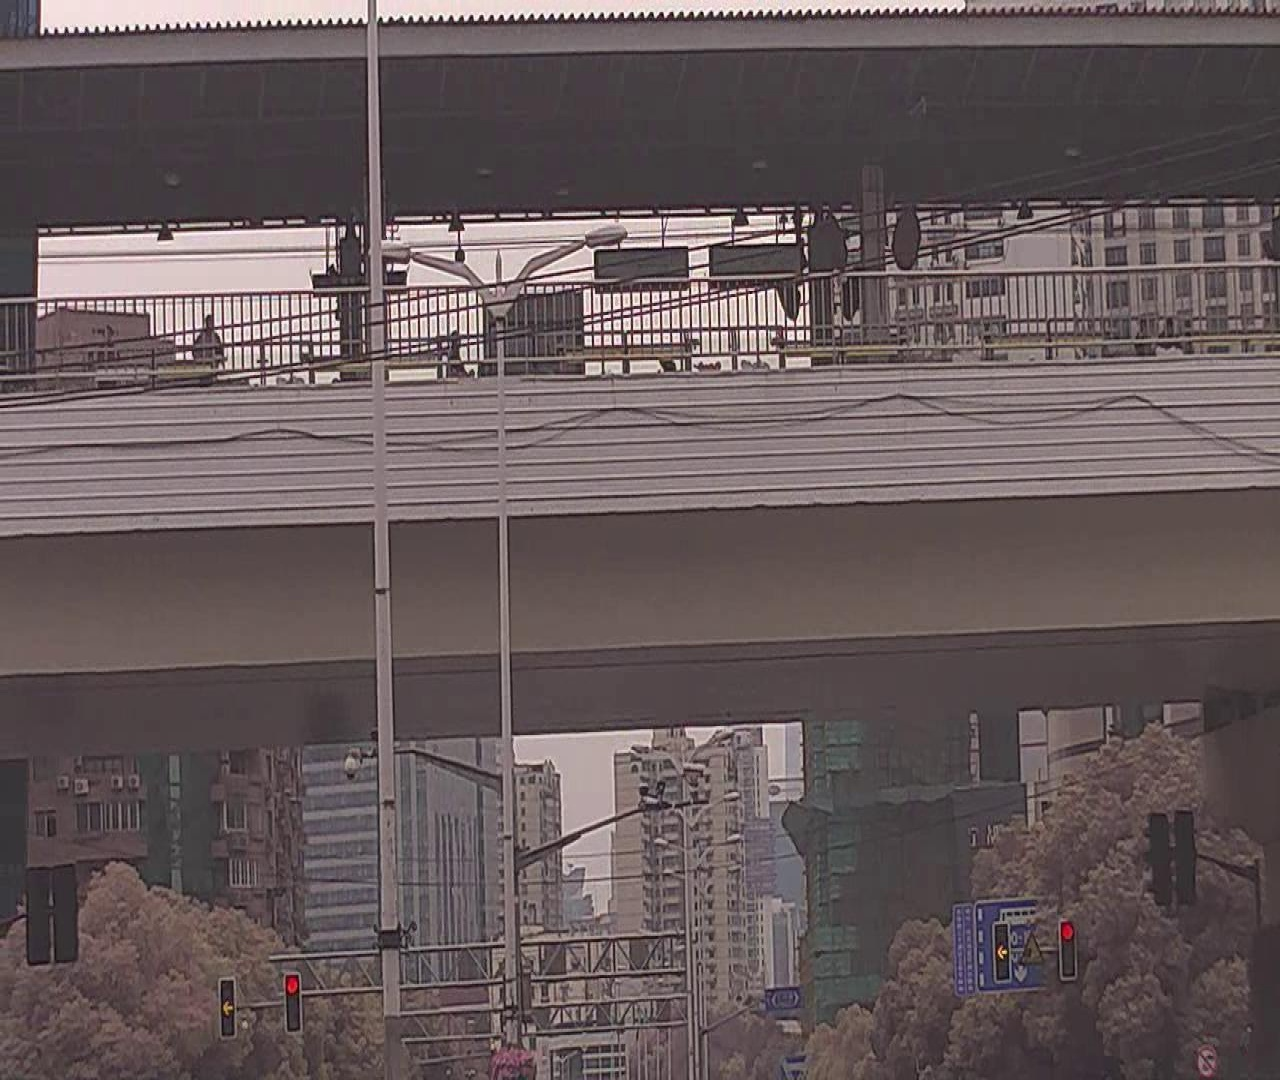red: (285, 967, 304, 1033), (1058, 915, 1076, 982)
yellow: (994, 919, 1015, 984), (219, 970, 236, 1044)
